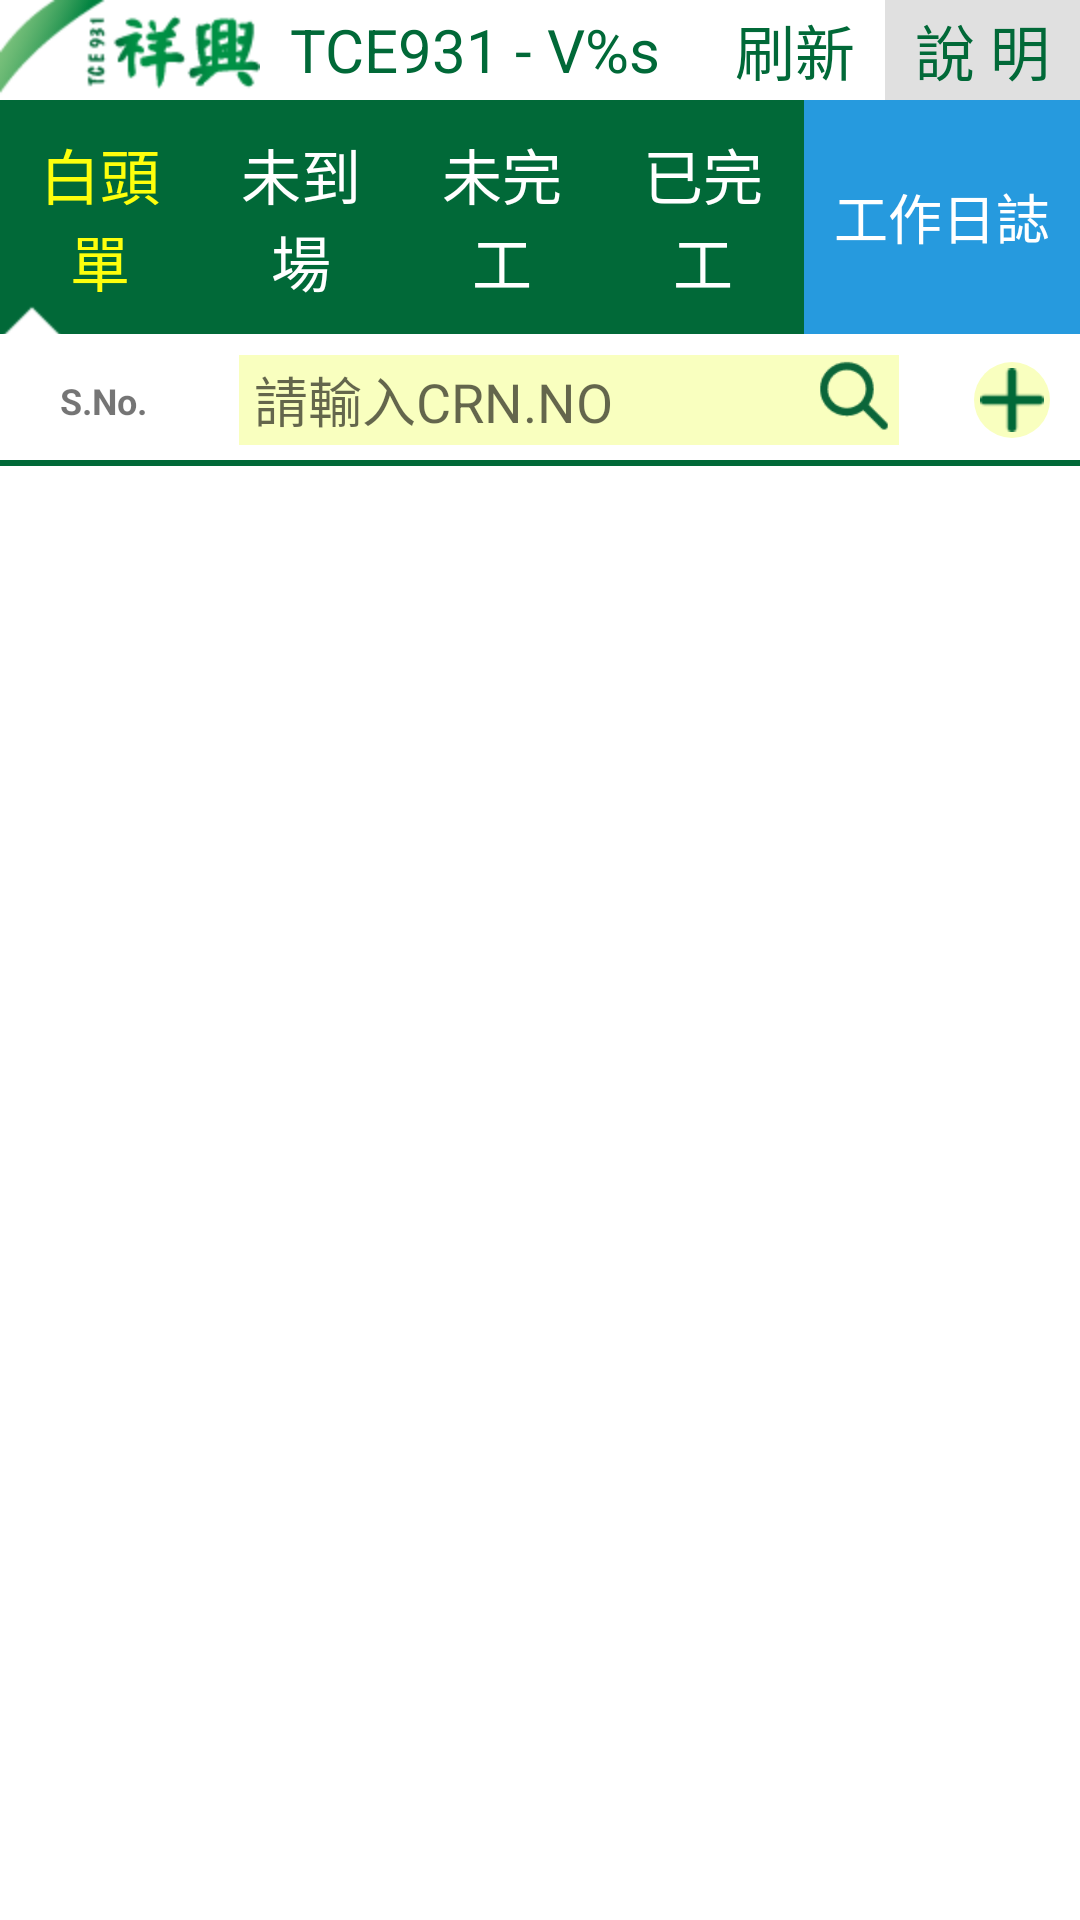

Icon bounding boxes for this 1080*1920 phone screenshot, format region(x1, y1, x2, y2):
add: region(974, 362, 1050, 438)
search: region(809, 355, 899, 445)
